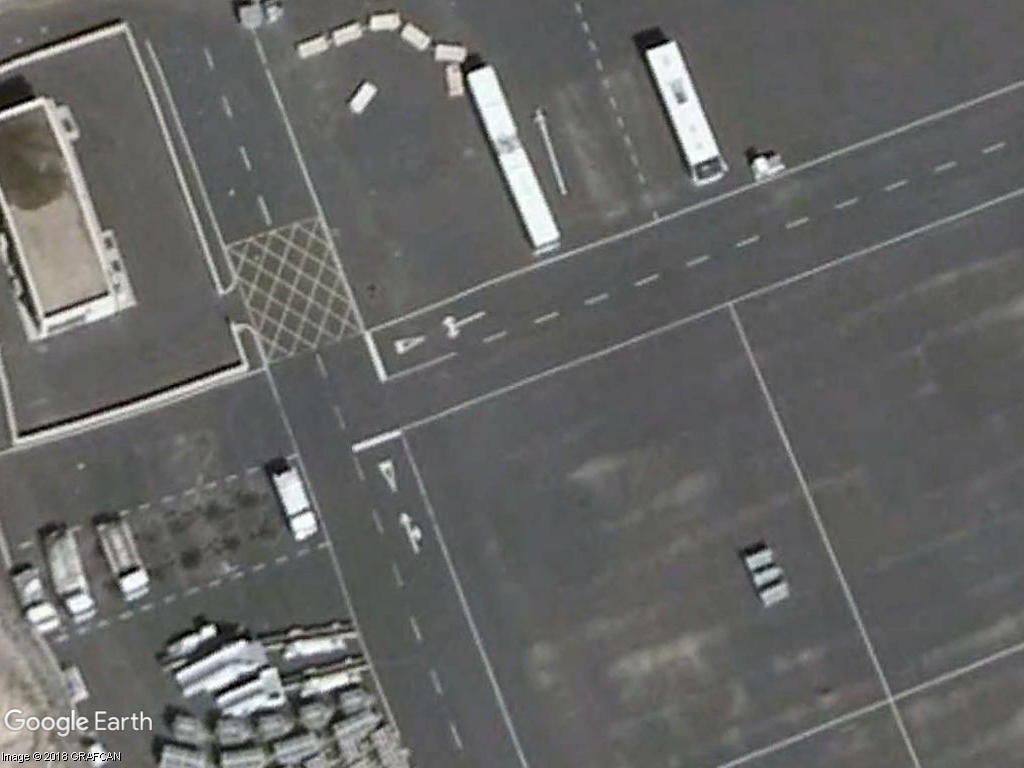bus: (633, 31, 737, 190)
longvehicle: (458, 63, 566, 260)
stairtruck: (163, 627, 276, 701)
truck: (263, 462, 326, 546)
